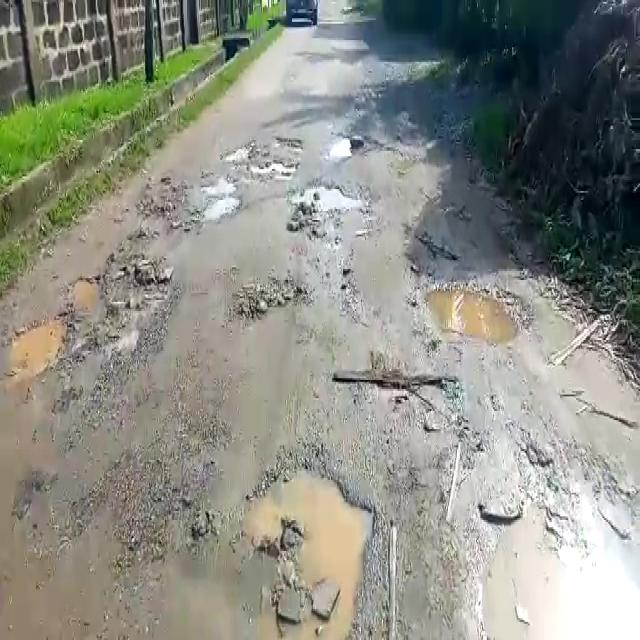Pothole: (244, 449, 378, 640), (483, 491, 640, 640), (420, 272, 535, 342), (69, 254, 173, 320), (0, 307, 71, 384), (282, 180, 370, 232), (220, 138, 302, 174), (199, 176, 242, 221), (327, 133, 361, 166)
